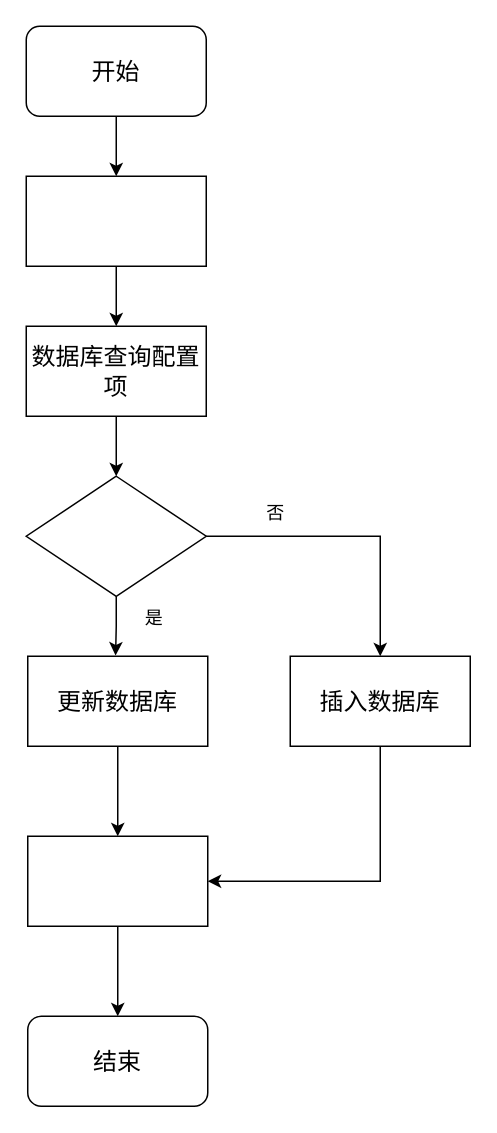
Some shapes in this 497 by 1133 pixel diagram are drawn without their labels. Here are the shapes that lost their labels. From the top down, the box of each, then its label:
(25, 175, 206, 266): 新建配置
(25, 475, 206, 596): 是否存在此配置
(26, 835, 208, 926): 插入到redis
